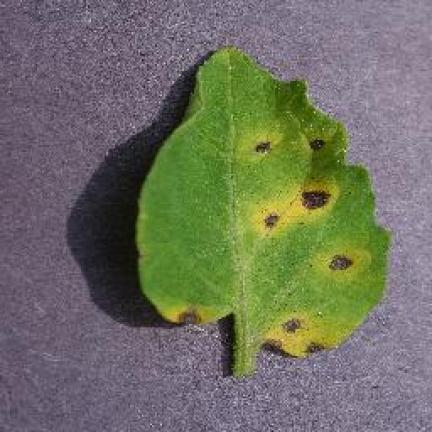leaf: (255, 140, 270, 152)
